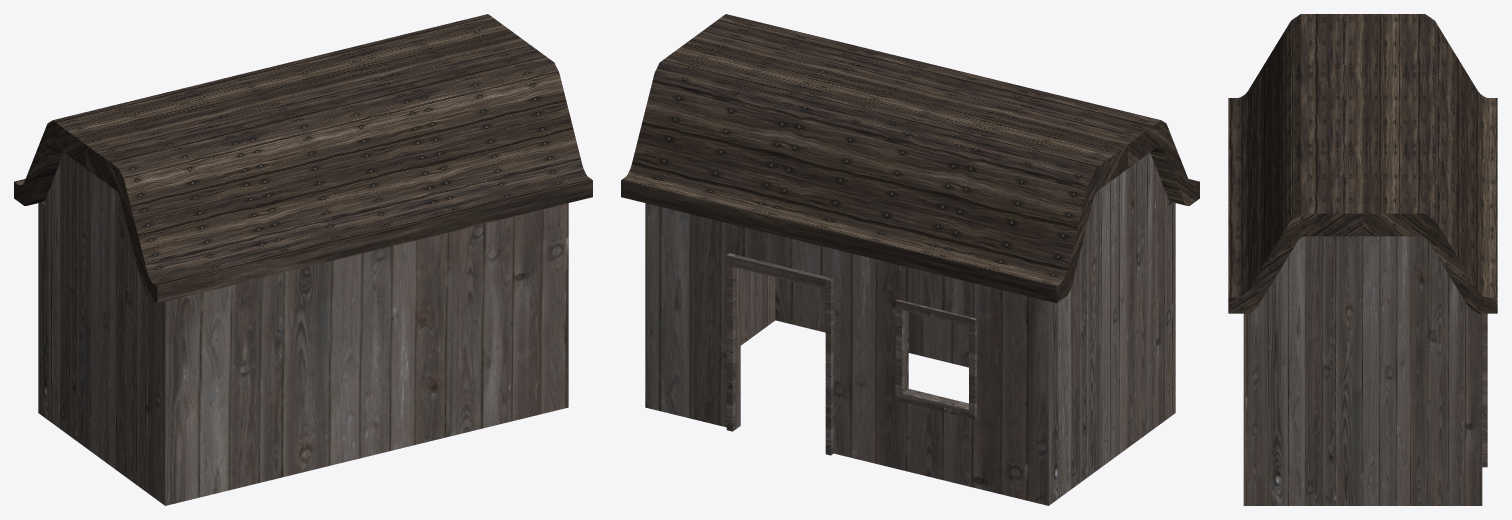
The model's file is Shack.FBX.
The picture shows the model from 3 angles, left to right: view 1: azimuth 30°, elevation 25°; view 2: azimuth 150°, elevation 25°; view 3: azimuth 270°, elevation 25°; orthographic projection. The views are drawn at different scales.
Visible parts, largest first — view 1: Box01; view 2: Box01; view 3: Box01.
Part boxes in pixels (<box>): Box01: <box>14,14,592,505</box>; Box01: <box>621,14,1199,505</box>; Box01: <box>1228,14,1497,505</box>.
Size of the model in its own units: 180 by 126 by 103.
Materials: 4 (4 with a texture image).
